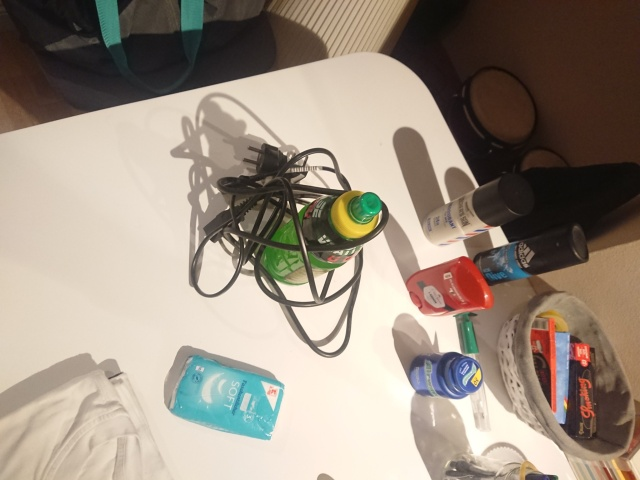Vindi Iso Sport Lemon-Grapefruit 500mL: (262, 188, 385, 288)
